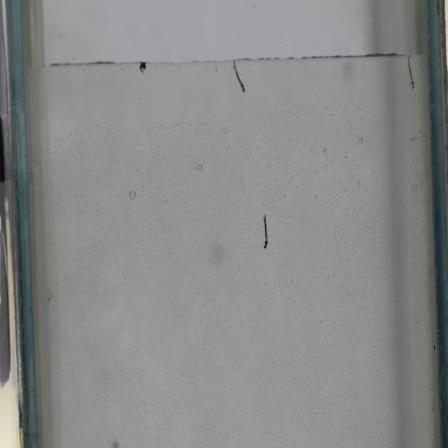Jentik-Nyamuk: (229, 59, 249, 96), (256, 211, 273, 253), (403, 56, 417, 95), (135, 59, 150, 79)
